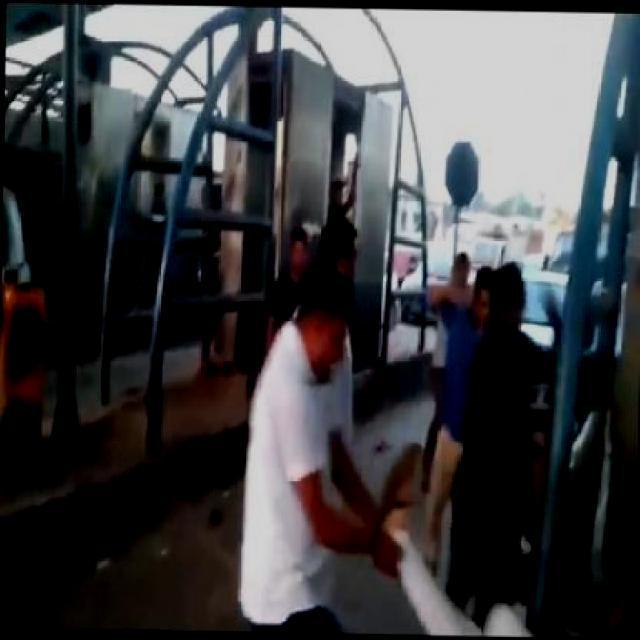fight: (420, 257, 560, 528)
